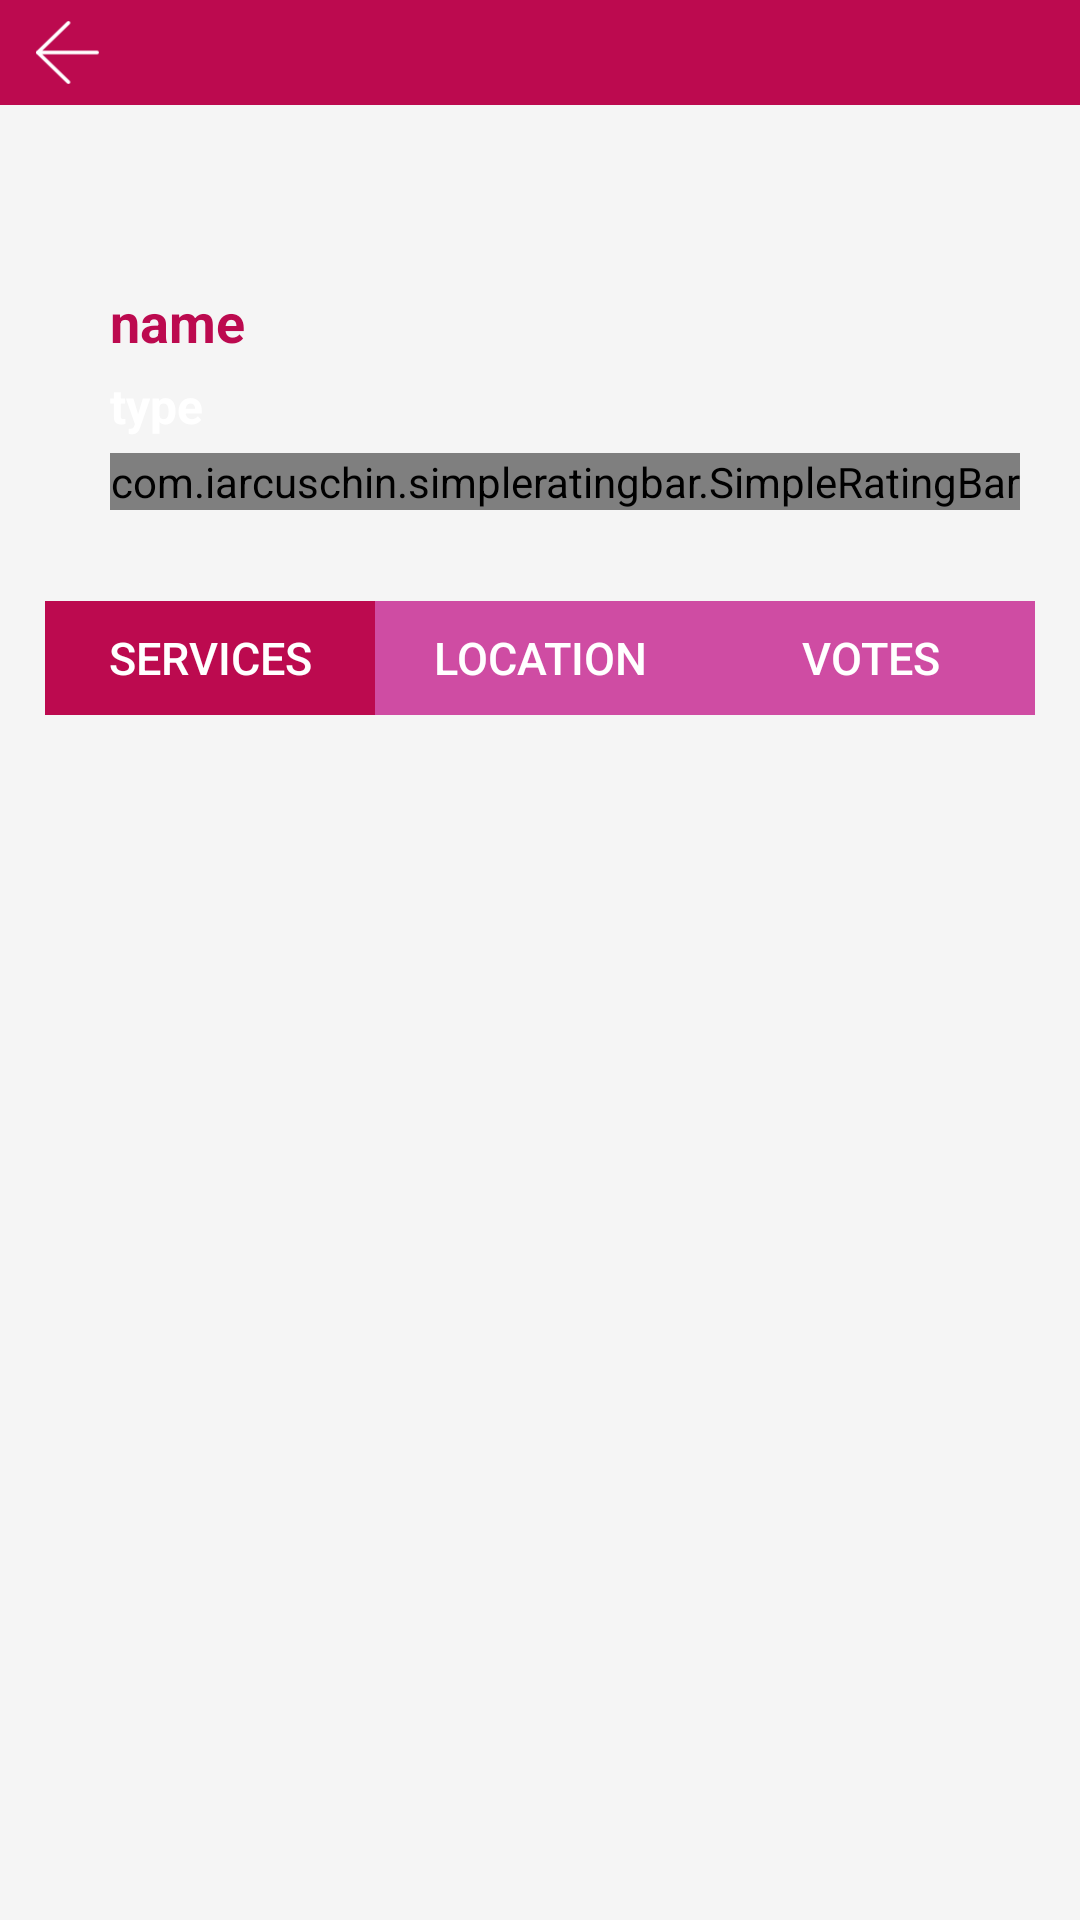

Icon click points for this 1080*1920 phone screenshot, format point (x, y):
arrow: point (67, 52)
